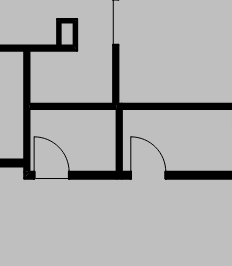door: (31, 131, 80, 180), (127, 132, 169, 174)
